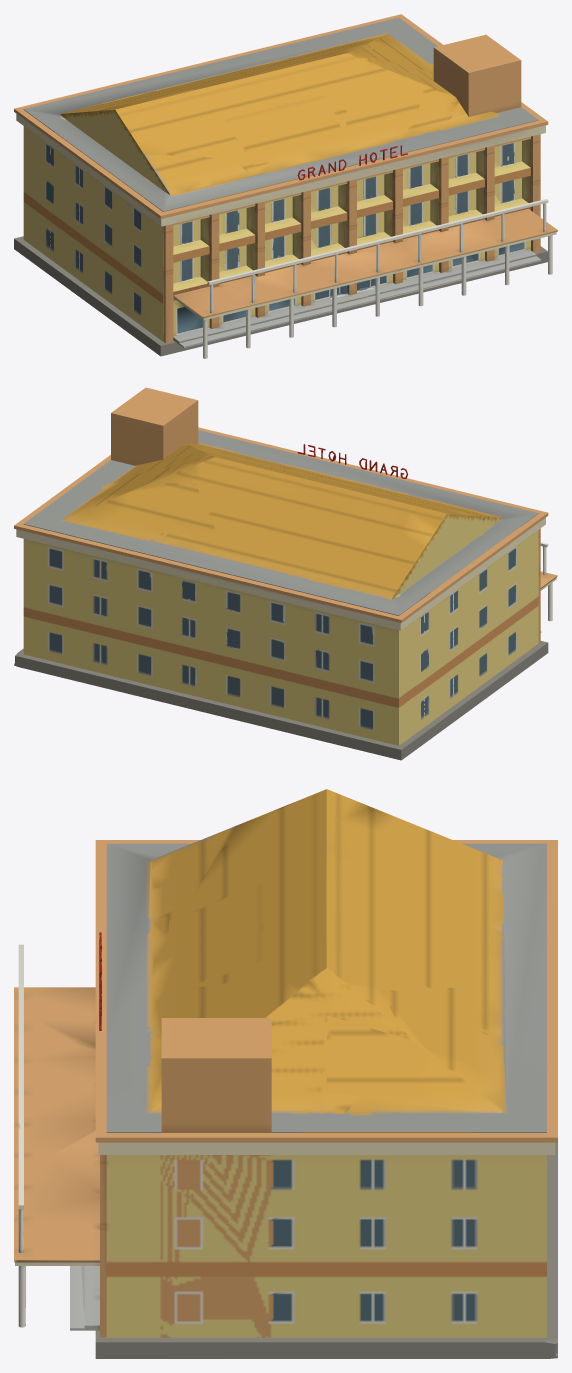
File: khach_san_grand.mid.glb
3 views of the same model, one above another, from view 1: azimuth 30°, elevation 25°; view 2: azimuth 150°, elevation 25°; view 3: azimuth 270°, elevation 25° (orthographic). The views are drawn at different scales.
Visible parts, largest first — view 1: khach_san_grand; view 2: khach_san_grand; view 3: khach_san_grand.
Boxes of the visible parts, x1=… form: khach_san_grand: x1=14, y1=14, x2=557, y2=358; khach_san_grand: x1=14, y1=387, x2=557, y2=760; khach_san_grand: x1=14, y1=789, x2=557, y2=1358.
Bounding box in the file's own units: 38.4 × 17.8 × 29.65.
Materials: 4 (4 with a texture image).
